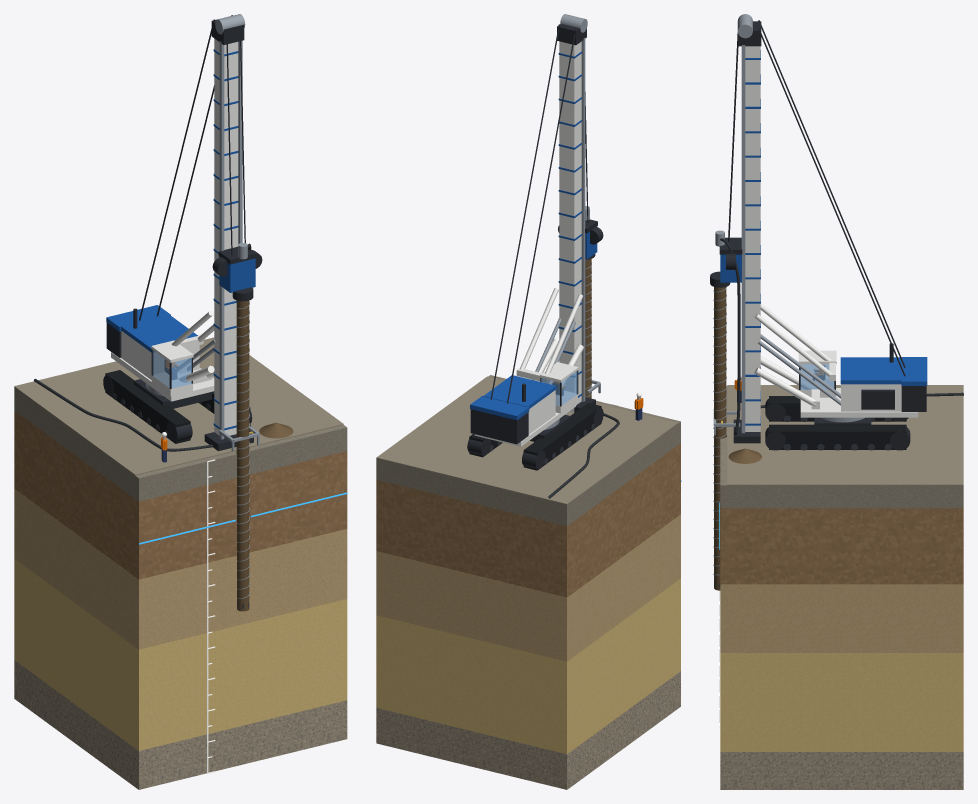
The model's file is cfa-makett.glb.
3 views of the same model, side by side, from view 1: azimuth 30°, elevation 25°; view 2: azimuth 150°, elevation 25°; view 3: azimuth 270°, elevation 25° (orthographic). The views are drawn at different scales.
Visible parts, largest first — view 1: Homok, Agyag (furat), CFA_furogep, Iszapos homok (furat), Munkaszint, Kavics, Feltöltés (furat), Iszapos homok, Talaj_a_meneteken, object 15, Melysegi_vonalzo, Furocsiga (+1 smaller); view 2: Homok, Agyag (furat), CFA_furogep, Iszapos homok (furat), Munkaszint, Kavics, Feltöltés (furat), Iszapos homok, Talaj_a_meneteken; view 3: CFA_furogep, Homok, Agyag (furat), Iszapos homok (furat), Munkaszint, Kavics, Feltöltés (furat), Iszapos homok, Talaj_a_meneteken, Betontomlo, Furocsiga.
Part boxes in pixels (bbox=[...]): Homok: bbox=[14, 559, 347, 750]; Agyag (furat): bbox=[14, 411, 347, 579]; CFA_furogep: bbox=[103, 14, 253, 451]; Iszapos homok (furat): bbox=[14, 489, 347, 633]; Munkaszint: bbox=[14, 337, 343, 475]; Kavics: bbox=[14, 660, 347, 789]; Feltöltés (furat): bbox=[14, 387, 347, 501]; Iszapos homok: bbox=[14, 543, 347, 649]; Talaj_a_meneteken: bbox=[236, 300, 249, 611]; object 15: bbox=[219, 257, 255, 292]; Melysegi_vonalzo: bbox=[207, 459, 215, 773]; Furocsiga: bbox=[236, 301, 249, 608]; Homok: bbox=[376, 578, 680, 754]; Agyag (furat): bbox=[376, 443, 680, 597]; CFA_furogep: bbox=[467, 14, 603, 470]; Iszapos homok (furat): bbox=[376, 514, 680, 647]; Munkaszint: bbox=[376, 376, 677, 504]; Kavics: bbox=[376, 671, 680, 789]; Feltöltés (furat): bbox=[376, 375, 680, 525]; Iszapos homok: bbox=[376, 564, 680, 661]; Talaj_a_meneteken: bbox=[585, 259, 591, 398]; CFA_furogep: bbox=[728, 14, 927, 450]; Homok: bbox=[720, 653, 963, 751]; Agyag (furat): bbox=[720, 508, 963, 584]; Iszapos homok (furat): bbox=[720, 584, 963, 637]; Munkaszint: bbox=[727, 385, 963, 485]; Kavics: bbox=[720, 752, 963, 789]; Feltöltés (furat): bbox=[720, 386, 963, 508]; Iszapos homok: bbox=[720, 637, 963, 652]; Talaj_a_meneteken: bbox=[714, 287, 726, 590]; Betontomlo: bbox=[720, 238, 963, 435]; Furocsiga: bbox=[713, 286, 726, 587].
Size of the model in its own units: 0.2333 by 0.7896 by 0.2518.
Materials: 29 (5 with a texture image).
